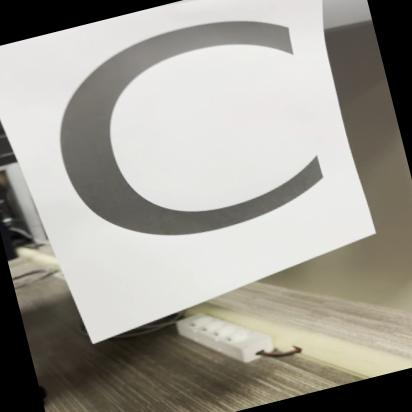seat: (0, 0, 356, 306)
